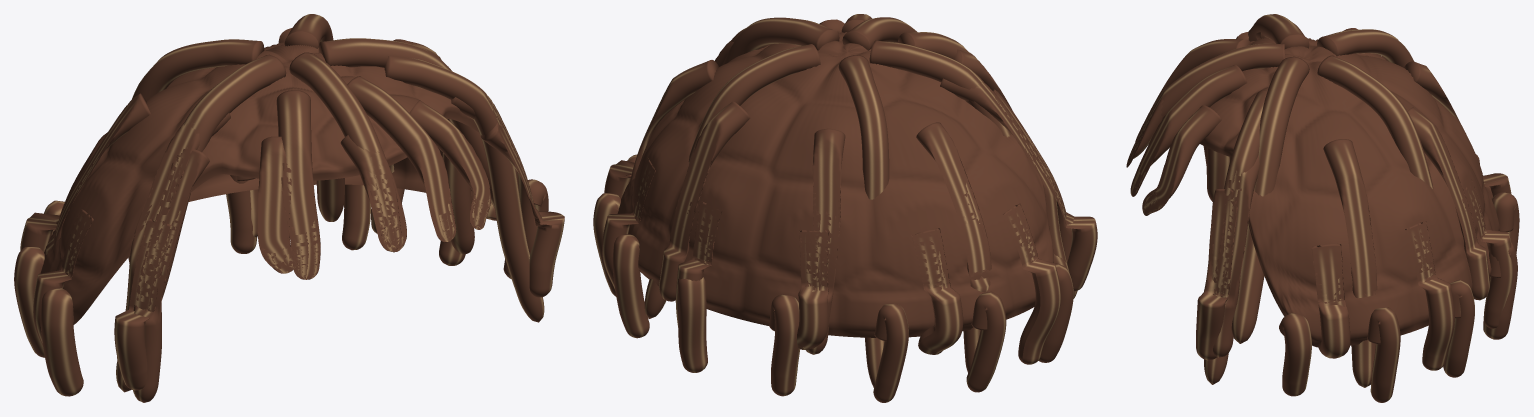
Rendered from Highlights-124664157171252-hair.glb.
The picture shows the model from 3 angles, left to right: view 1: azimuth 30°, elevation 25°; view 2: azimuth 150°, elevation 25°; view 3: azimuth 270°, elevation 25°; orthographic projection. The views are drawn at different scales.
Visible parts, largest first — view 1: 226 hair / Hair252 / sectioned locs.001; view 2: 226 hair / Hair252 / sectioned locs.001; view 3: 226 hair / Hair252 / sectioned locs.001.
Boxes of the visible parts, left/top/right/bottom form: 226 hair / Hair252 / sectioned locs.001: left=14, top=14, right=564, bottom=402; 226 hair / Hair252 / sectioned locs.001: left=593, top=14, right=1097, bottom=402; 226 hair / Hair252 / sectioned locs.001: left=1126, top=14, right=1519, bottom=402.
Size of the model in its own units: 1.1 by 0.6395 by 0.8465.
Materials: 1 (1 with a texture image).
